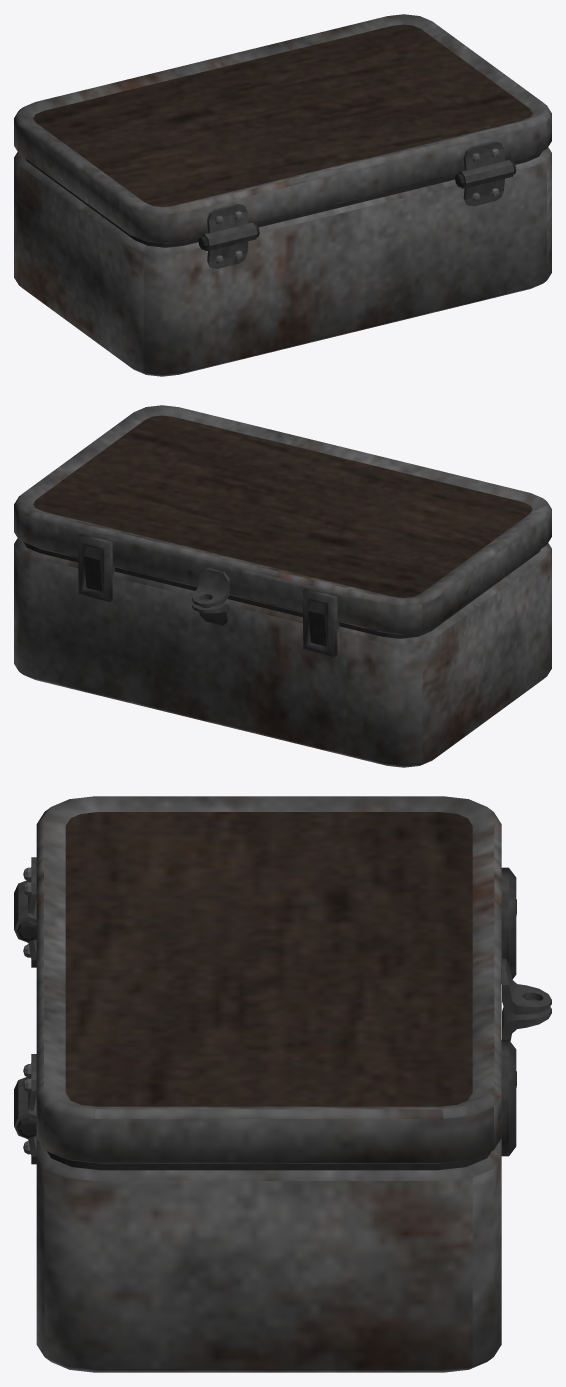
File: metal_crate_1.obj
3 renders of one model, top to bottom at view 1: azimuth 30°, elevation 25°; view 2: azimuth 150°, elevation 25°; view 3: azimuth 270°, elevation 25°, orthographic. The views are drawn at different scales.
Visible parts, largest first — view 1: metal_crate_1; view 2: metal_crate_1; view 3: metal_crate_1.
Part boxes in pixels (x1=…): metal_crate_1: x1=14, y1=14, x2=551, y2=376; metal_crate_1: x1=14, y1=405, x2=551, y2=767; metal_crate_1: x1=14, y1=796, x2=551, y2=1372.
Size of the model in its own units: 0.52 by 0.2 by 0.3702.
